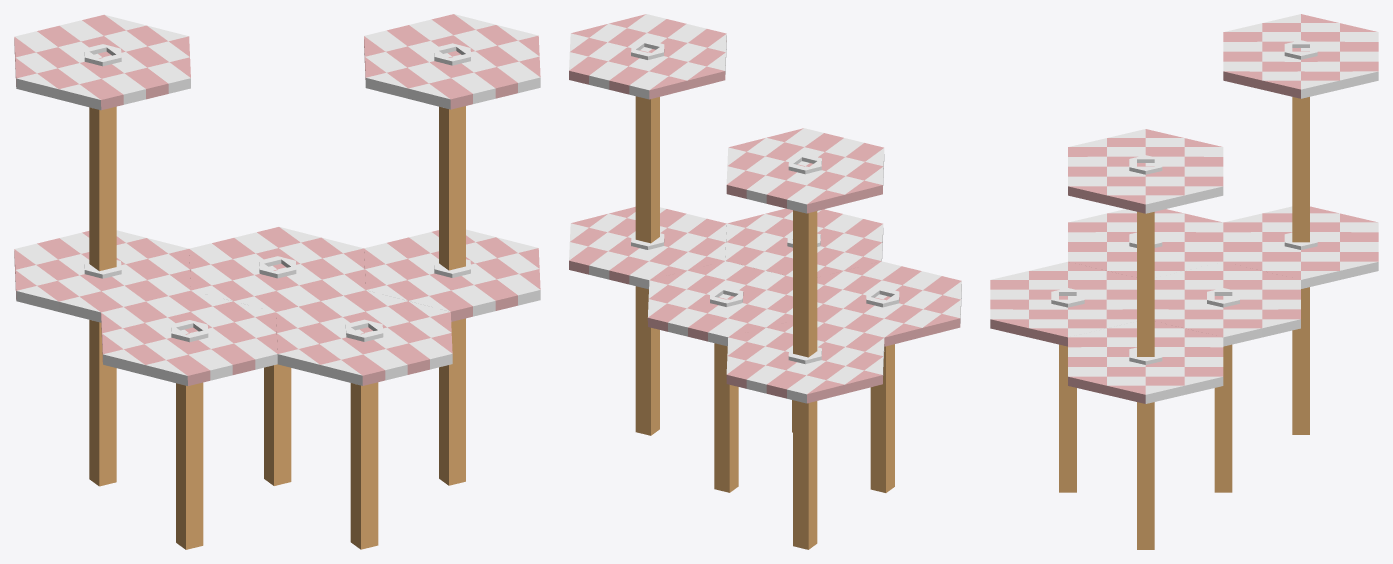
The model's file is plataforma5.glb.
3 renders of one model, left to right at view 1: azimuth 30°, elevation 25°; view 2: azimuth 150°, elevation 25°; view 3: azimuth 270°, elevation 25°, orthographic. The views are drawn at different scales.
Parts seen in each view (by area): view 1: Cube.023, Cube.012, Cube.002, Cube.020; view 2: Cube.023, Cube.002, Cube.020, Cube.012; view 3: Cube.023, Cube.002, Cube.012, Cube.020.
Part boxes in pixels (box(x1,y1,x2,y2)): Cube.023: box(14, 14, 540, 549); Cube.012: box(276, 290, 452, 549); Cube.002: box(189, 227, 365, 485); Cube.020: box(101, 290, 277, 385); Cube.023: box(569, 14, 961, 549); Cube.002: box(647, 261, 792, 492); Cube.020: box(817, 261, 961, 492); Cube.012: box(725, 208, 883, 277); Cube.023: box(1059, 14, 1378, 549); Cube.002: box(1154, 262, 1300, 491); Cube.012: box(990, 262, 1136, 491); Cube.020: box(1068, 209, 1223, 277).
Bounding box in the file's own units: 4.27 × 4 × 3.68.
